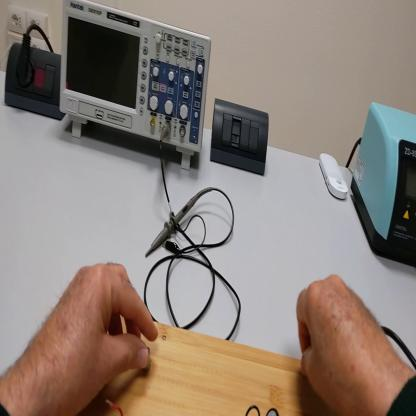hand: (2, 262, 158, 415), (297, 276, 394, 410)
high voltage board: (106, 398, 281, 414)
oscilloscope: (61, 3, 213, 176)
oscilloscope probe tip: (147, 186, 212, 256)
socket: (5, 41, 64, 123)
welder station: (357, 101, 416, 267)
working area: (76, 313, 338, 416)
